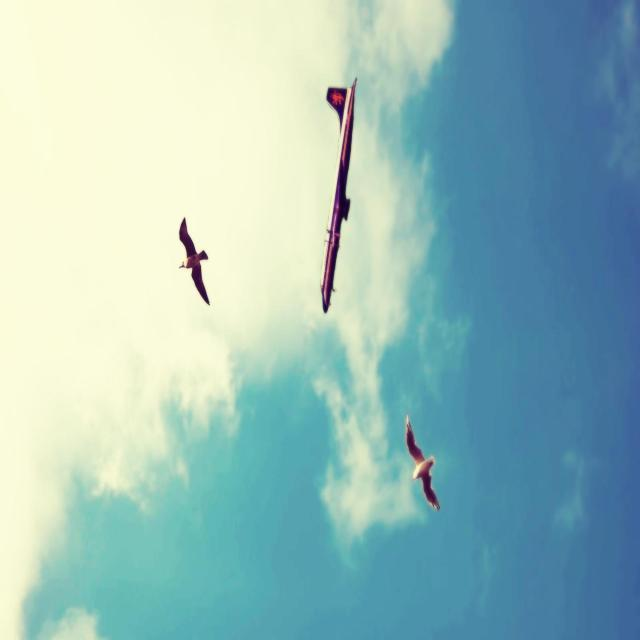airplane: (320, 76, 357, 313)
